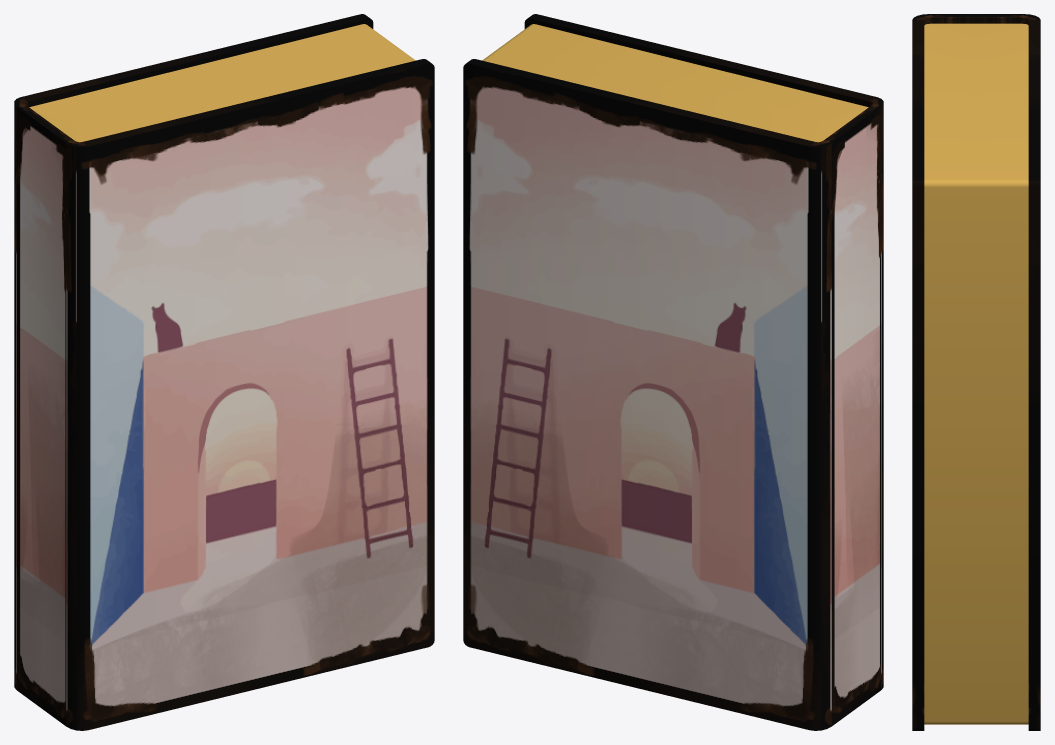
The model's file is SM_Book05.fbx.
3 renders of one model, left to right at view 1: azimuth 30°, elevation 25°; view 2: azimuth 150°, elevation 25°; view 3: azimuth 270°, elevation 25°, orthographic. The views are drawn at different scales.
Parts seen in each view (by area): view 1: SM_Book05_LOD0; view 2: SM_Book05_LOD0; view 3: SM_Book05_LOD0.
Part boxes in pixels (x1,y1,x2,y2): SM_Book05_LOD0: (14, 14, 434, 730); SM_Book05_LOD0: (463, 14, 883, 730); SM_Book05_LOD0: (912, 14, 1040, 730).
Bounding box in the file's own units: 18.55 × 6.05 × 28.8.
Materials: 1 (1 with a texture image).
